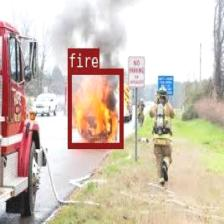fire: (67, 68, 122, 147)
